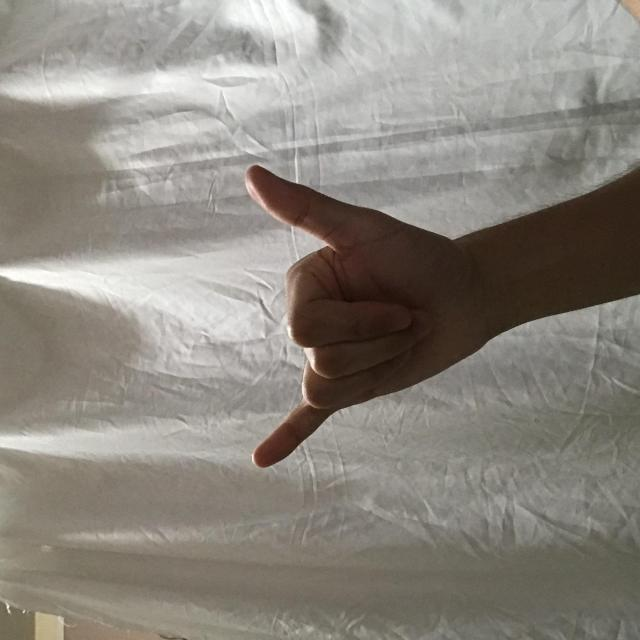Y: (168, 245, 472, 468)
